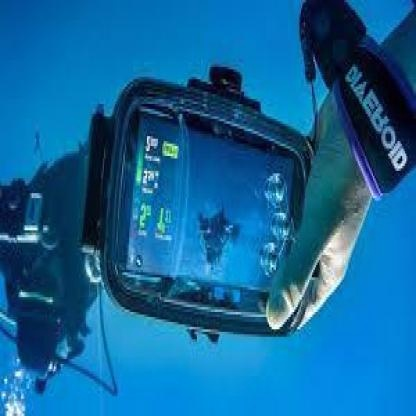electronics: (87, 74, 311, 344)
